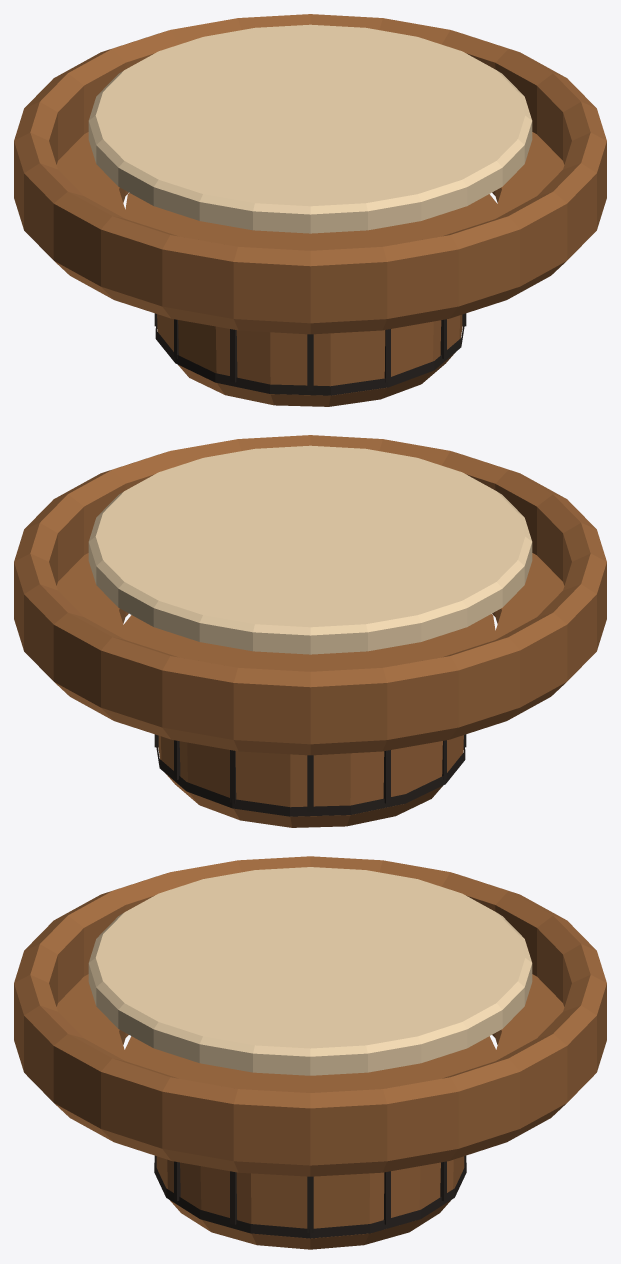
The model's file is wheel.glb.
3 renders of one model, top to bottom at view 1: azimuth 30°, elevation 25°; view 2: azimuth 150°, elevation 25°; view 3: azimuth 270°, elevation 25°, orthographic.
Parts seen in each view (by area): view 1: splash_tray, wheel_head, wheel_body, body_band_1.015; view 2: splash_tray, wheel_head, wheel_body, body_band_1.015; view 3: splash_tray, wheel_head, wheel_body, body_band_1.015.
Part boxes in pixels (box(x1,y1,x2,y2)): splash_tray: box(14, 14, 606, 334); wheel_head: box(88, 24, 532, 233); wheel_body: box(125, 193, 497, 406); body_band_1.015: box(155, 324, 464, 395); splash_tray: box(14, 435, 606, 755); wheel_head: box(88, 445, 532, 654); wheel_body: box(123, 614, 495, 827); body_band_1.015: box(156, 745, 465, 816); splash_tray: box(14, 856, 606, 1176); wheel_head: box(88, 867, 532, 1075); wheel_body: box(125, 1036, 495, 1249); body_band_1.015: box(154, 1163, 466, 1238).
Size of the model in its own units: 2.54 by 1.1 by 2.54.
